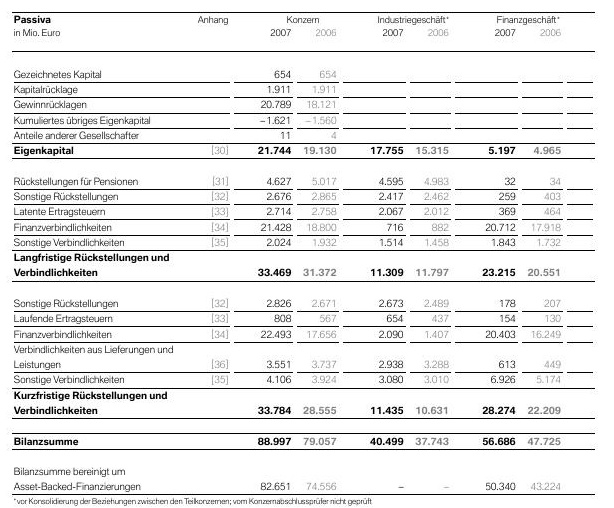table: (0, 0, 614, 508)
